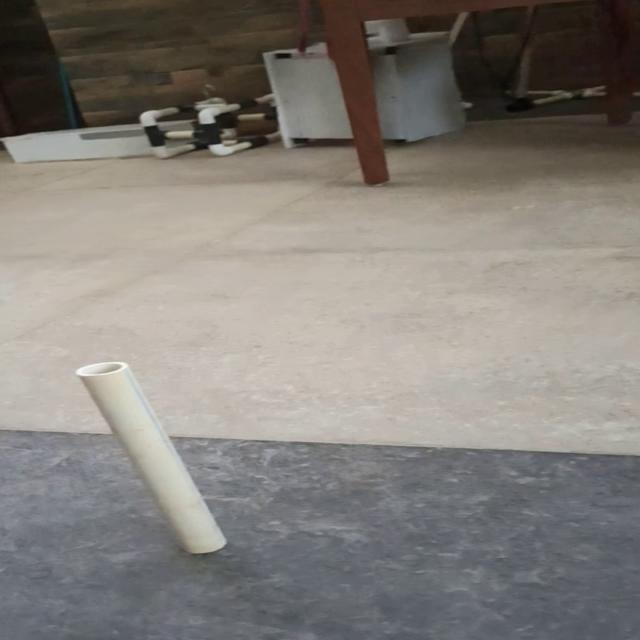Cube: (73, 360, 228, 554)
